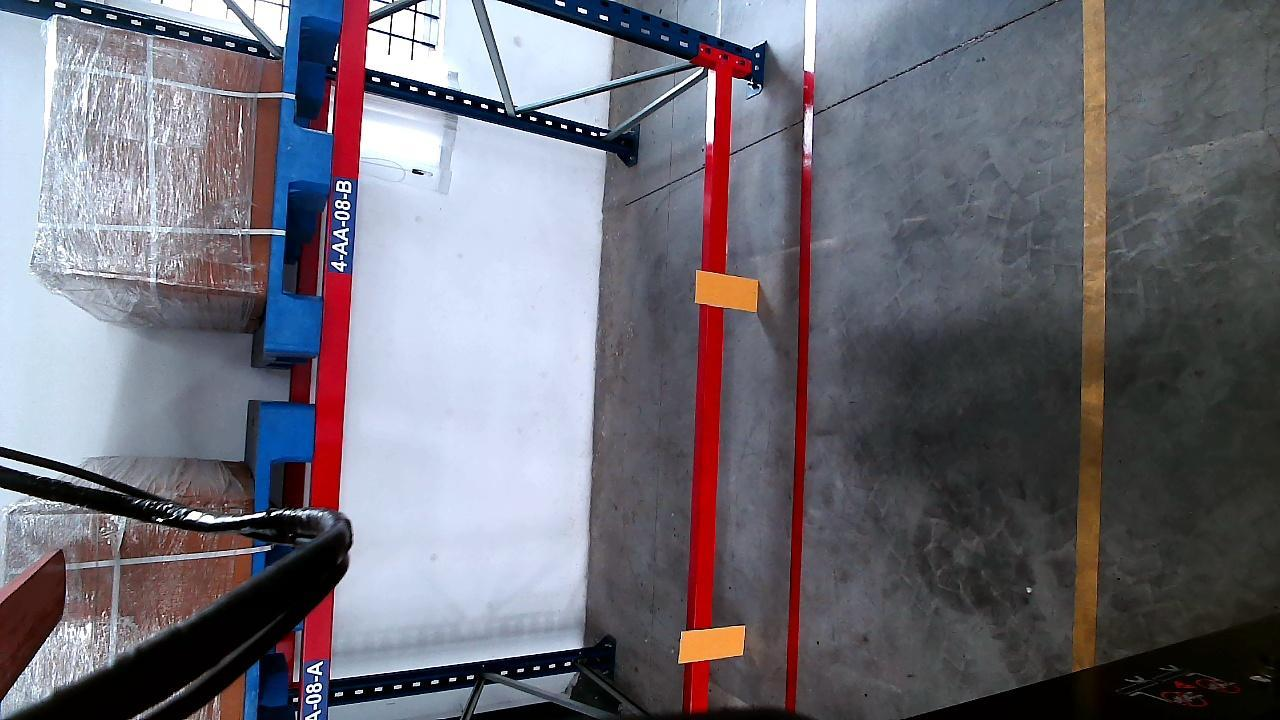red_line: (784, 1, 815, 711)
yellow_line: (1077, 0, 1102, 672)
